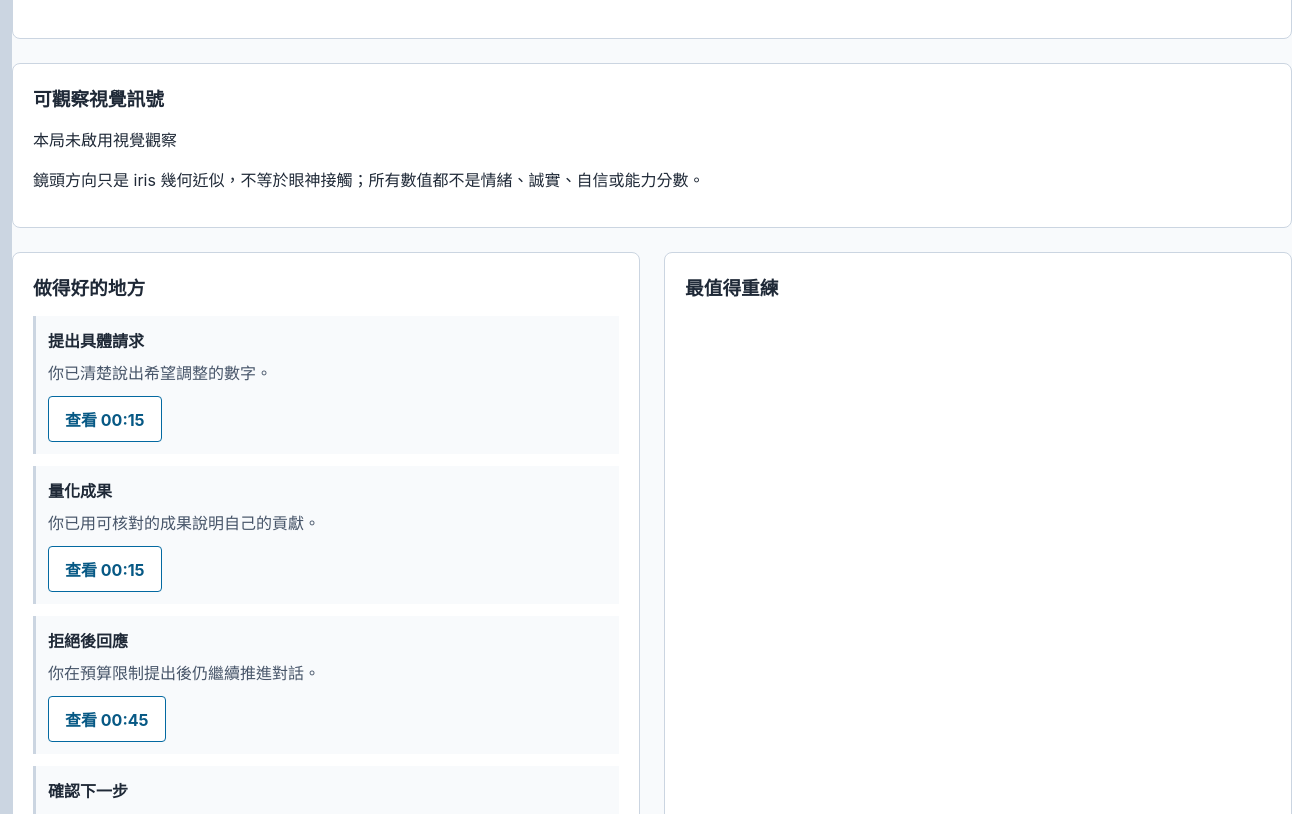
Scenario: shows the negotiation map and reveals timestamped transcript evidence
(page scrolled)
Click the button "查看 00:15" below "你已清楚說出希望調整的數字。" at coordinates (105, 419), box [48,396,162,442]
(page scrolled)
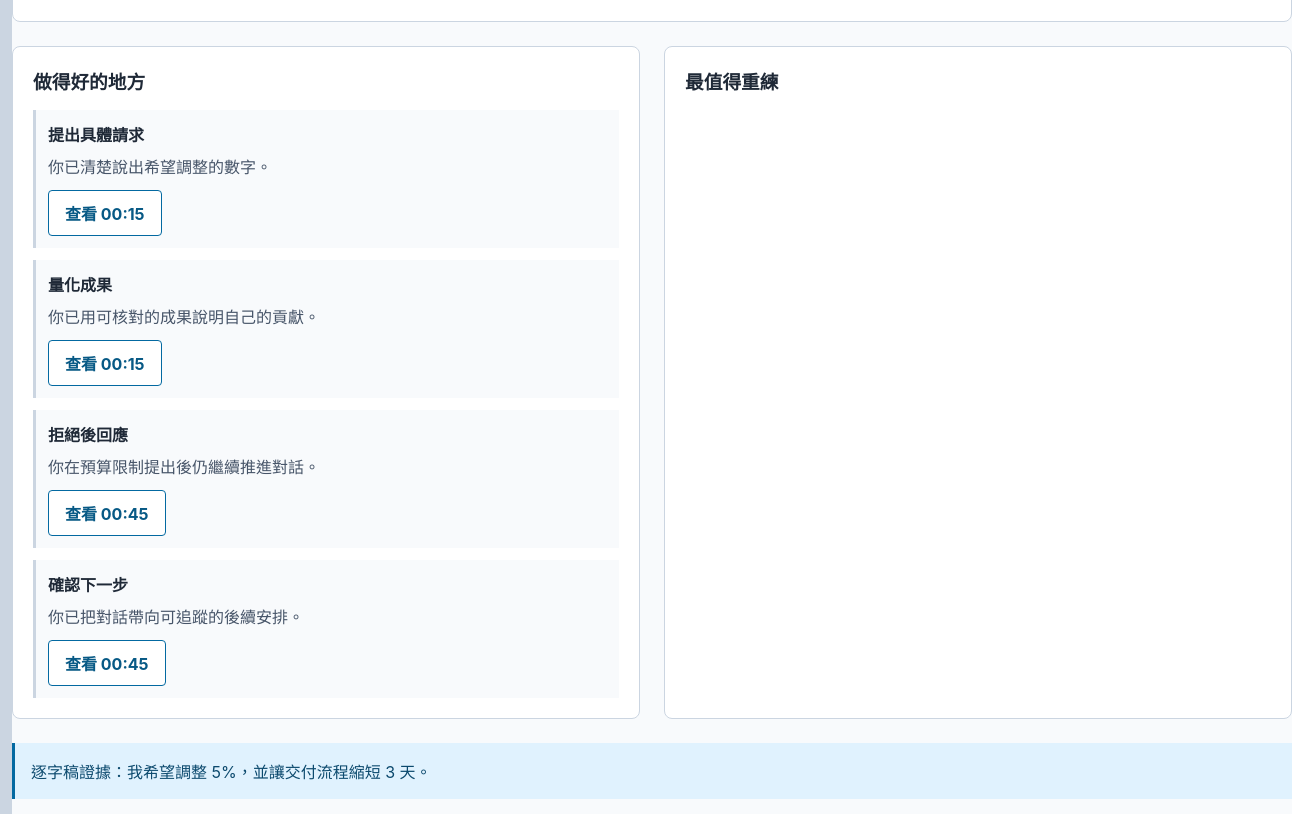
Now the text "逐字稿證據：我希望調整 5%，並讓交付流程縮短 3 天。" is shown, box [12,743,1291,799]
